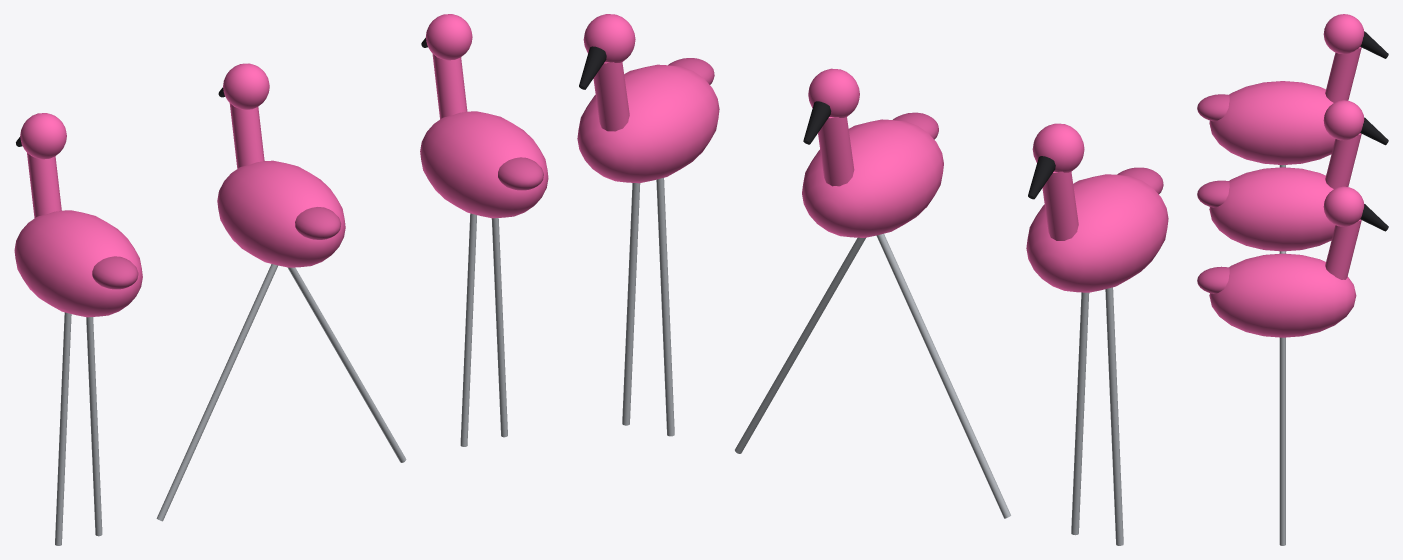
The model's file is plant_stand.fbx.
The picture shows the model from 3 angles, left to right: view 1: azimuth 30°, elevation 25°; view 2: azimuth 150°, elevation 25°; view 3: azimuth 270°, elevation 25°; orthographic projection. The views are drawn at different scales.
Parts seen in each view (by area): view 1: Pink Lawn Flamingos; view 2: Pink Lawn Flamingos; view 3: Pink Lawn Flamingos.
Boxes of the visible parts, bbox=[...] form: Pink Lawn Flamingos: bbox=[14, 14, 548, 545]; Pink Lawn Flamingos: bbox=[577, 14, 1168, 545]; Pink Lawn Flamingos: bbox=[1197, 14, 1388, 545].
Bounding box in the file's own units: 2.48 × 1.89 × 0.9391.
